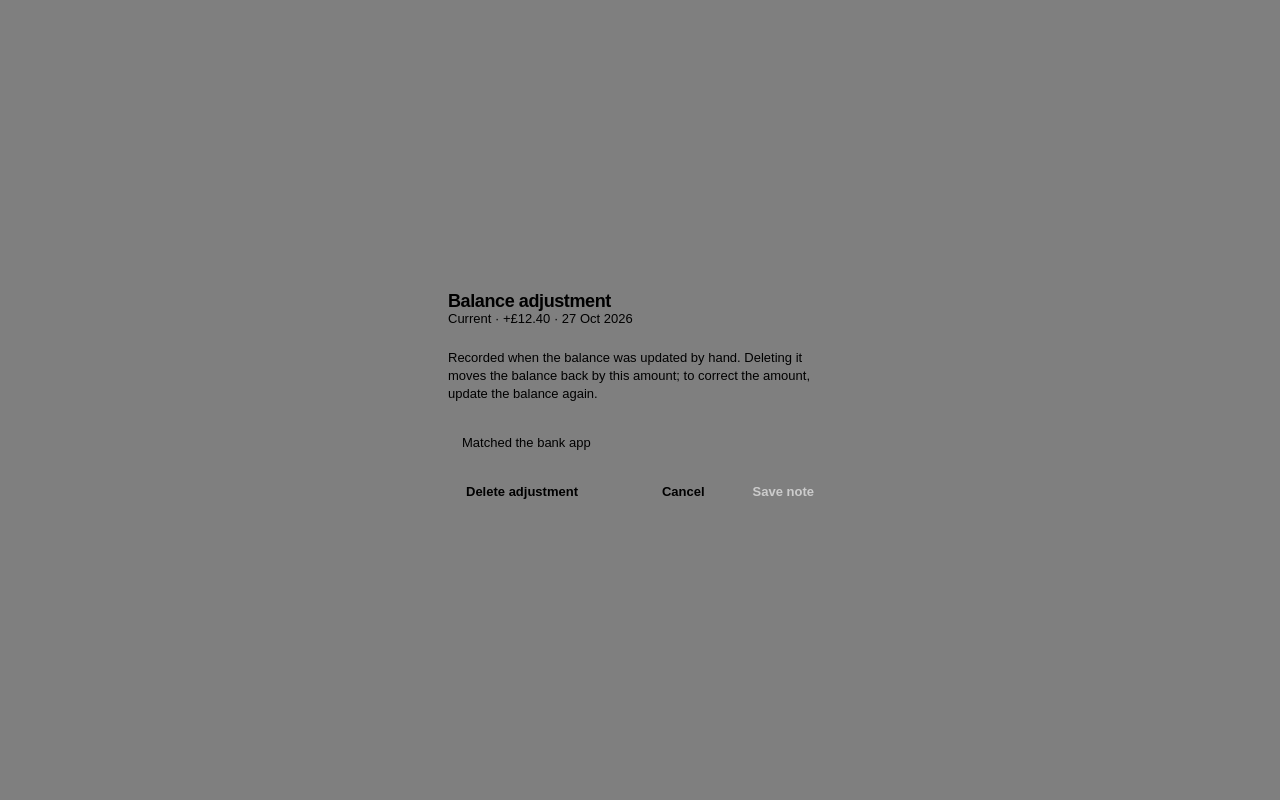
Test: AddModal — Balance adjustment › deletes the adjustment
Step 1. Click the button "Delete adjustment" → (522, 491), box [448,475,596,508]
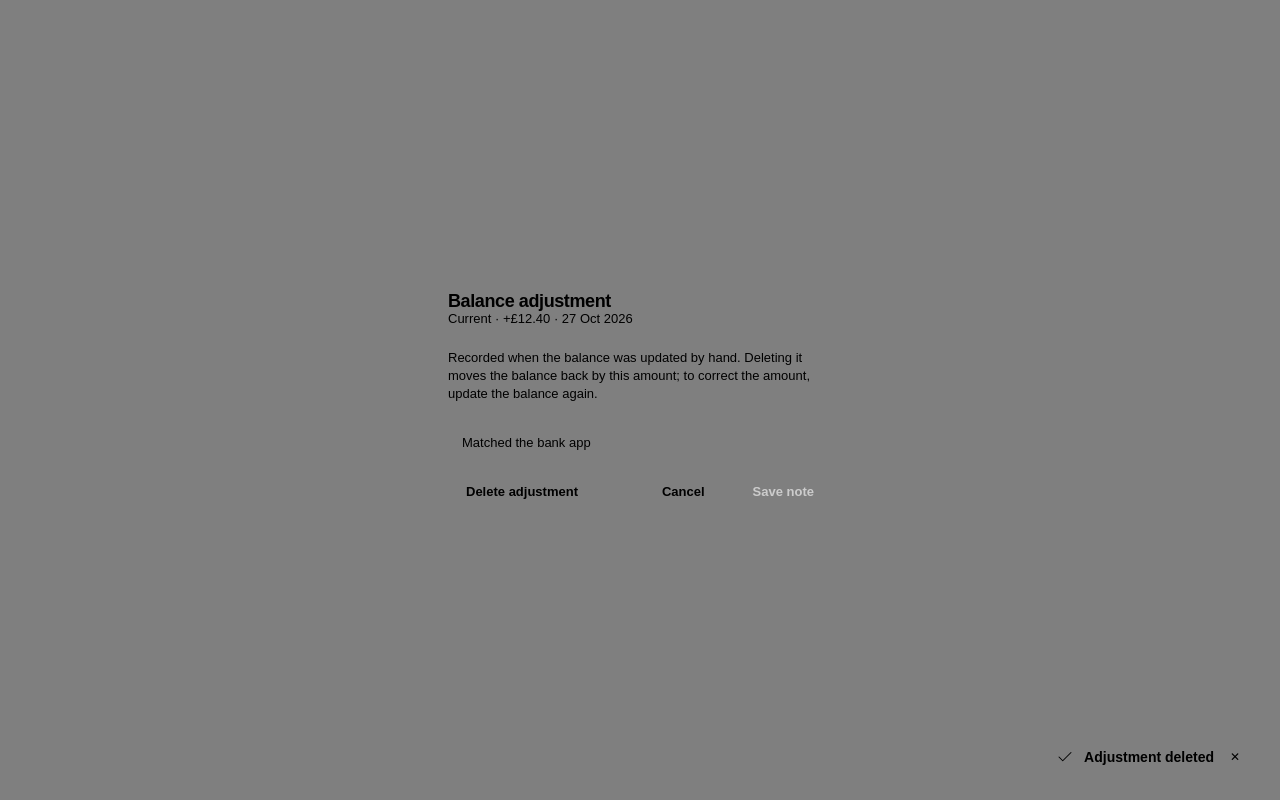
Expected: the text "Adjustment deleted" is shown, [1084,748,1214,766]
